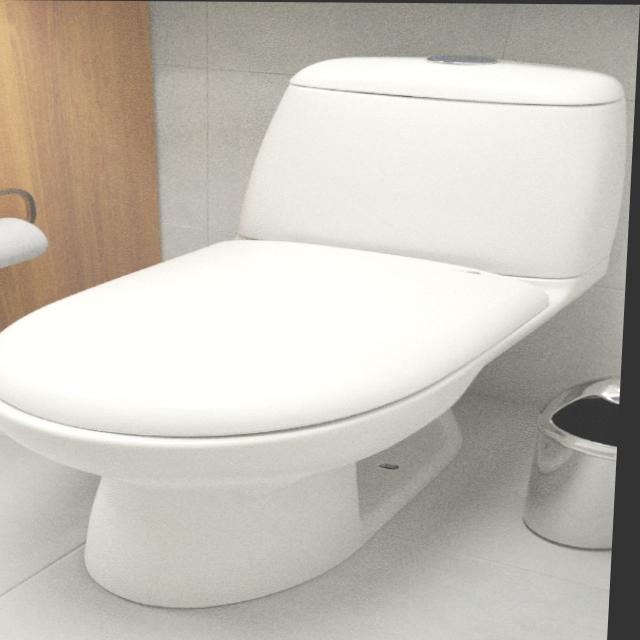toilet: (0, 51, 634, 611)
